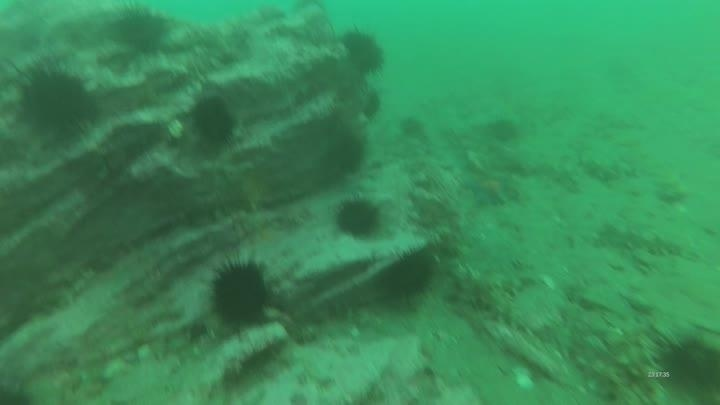echinus: (15, 61, 101, 146), (205, 255, 273, 332), (652, 330, 720, 401), (372, 247, 438, 307), (109, 4, 172, 58), (314, 123, 368, 186), (188, 94, 239, 150), (340, 26, 388, 77), (332, 195, 384, 242), (486, 116, 522, 147), (357, 86, 384, 124), (397, 114, 427, 142)
holothurian: (592, 221, 687, 263), (579, 155, 648, 184)
starfish: (460, 168, 516, 209)
